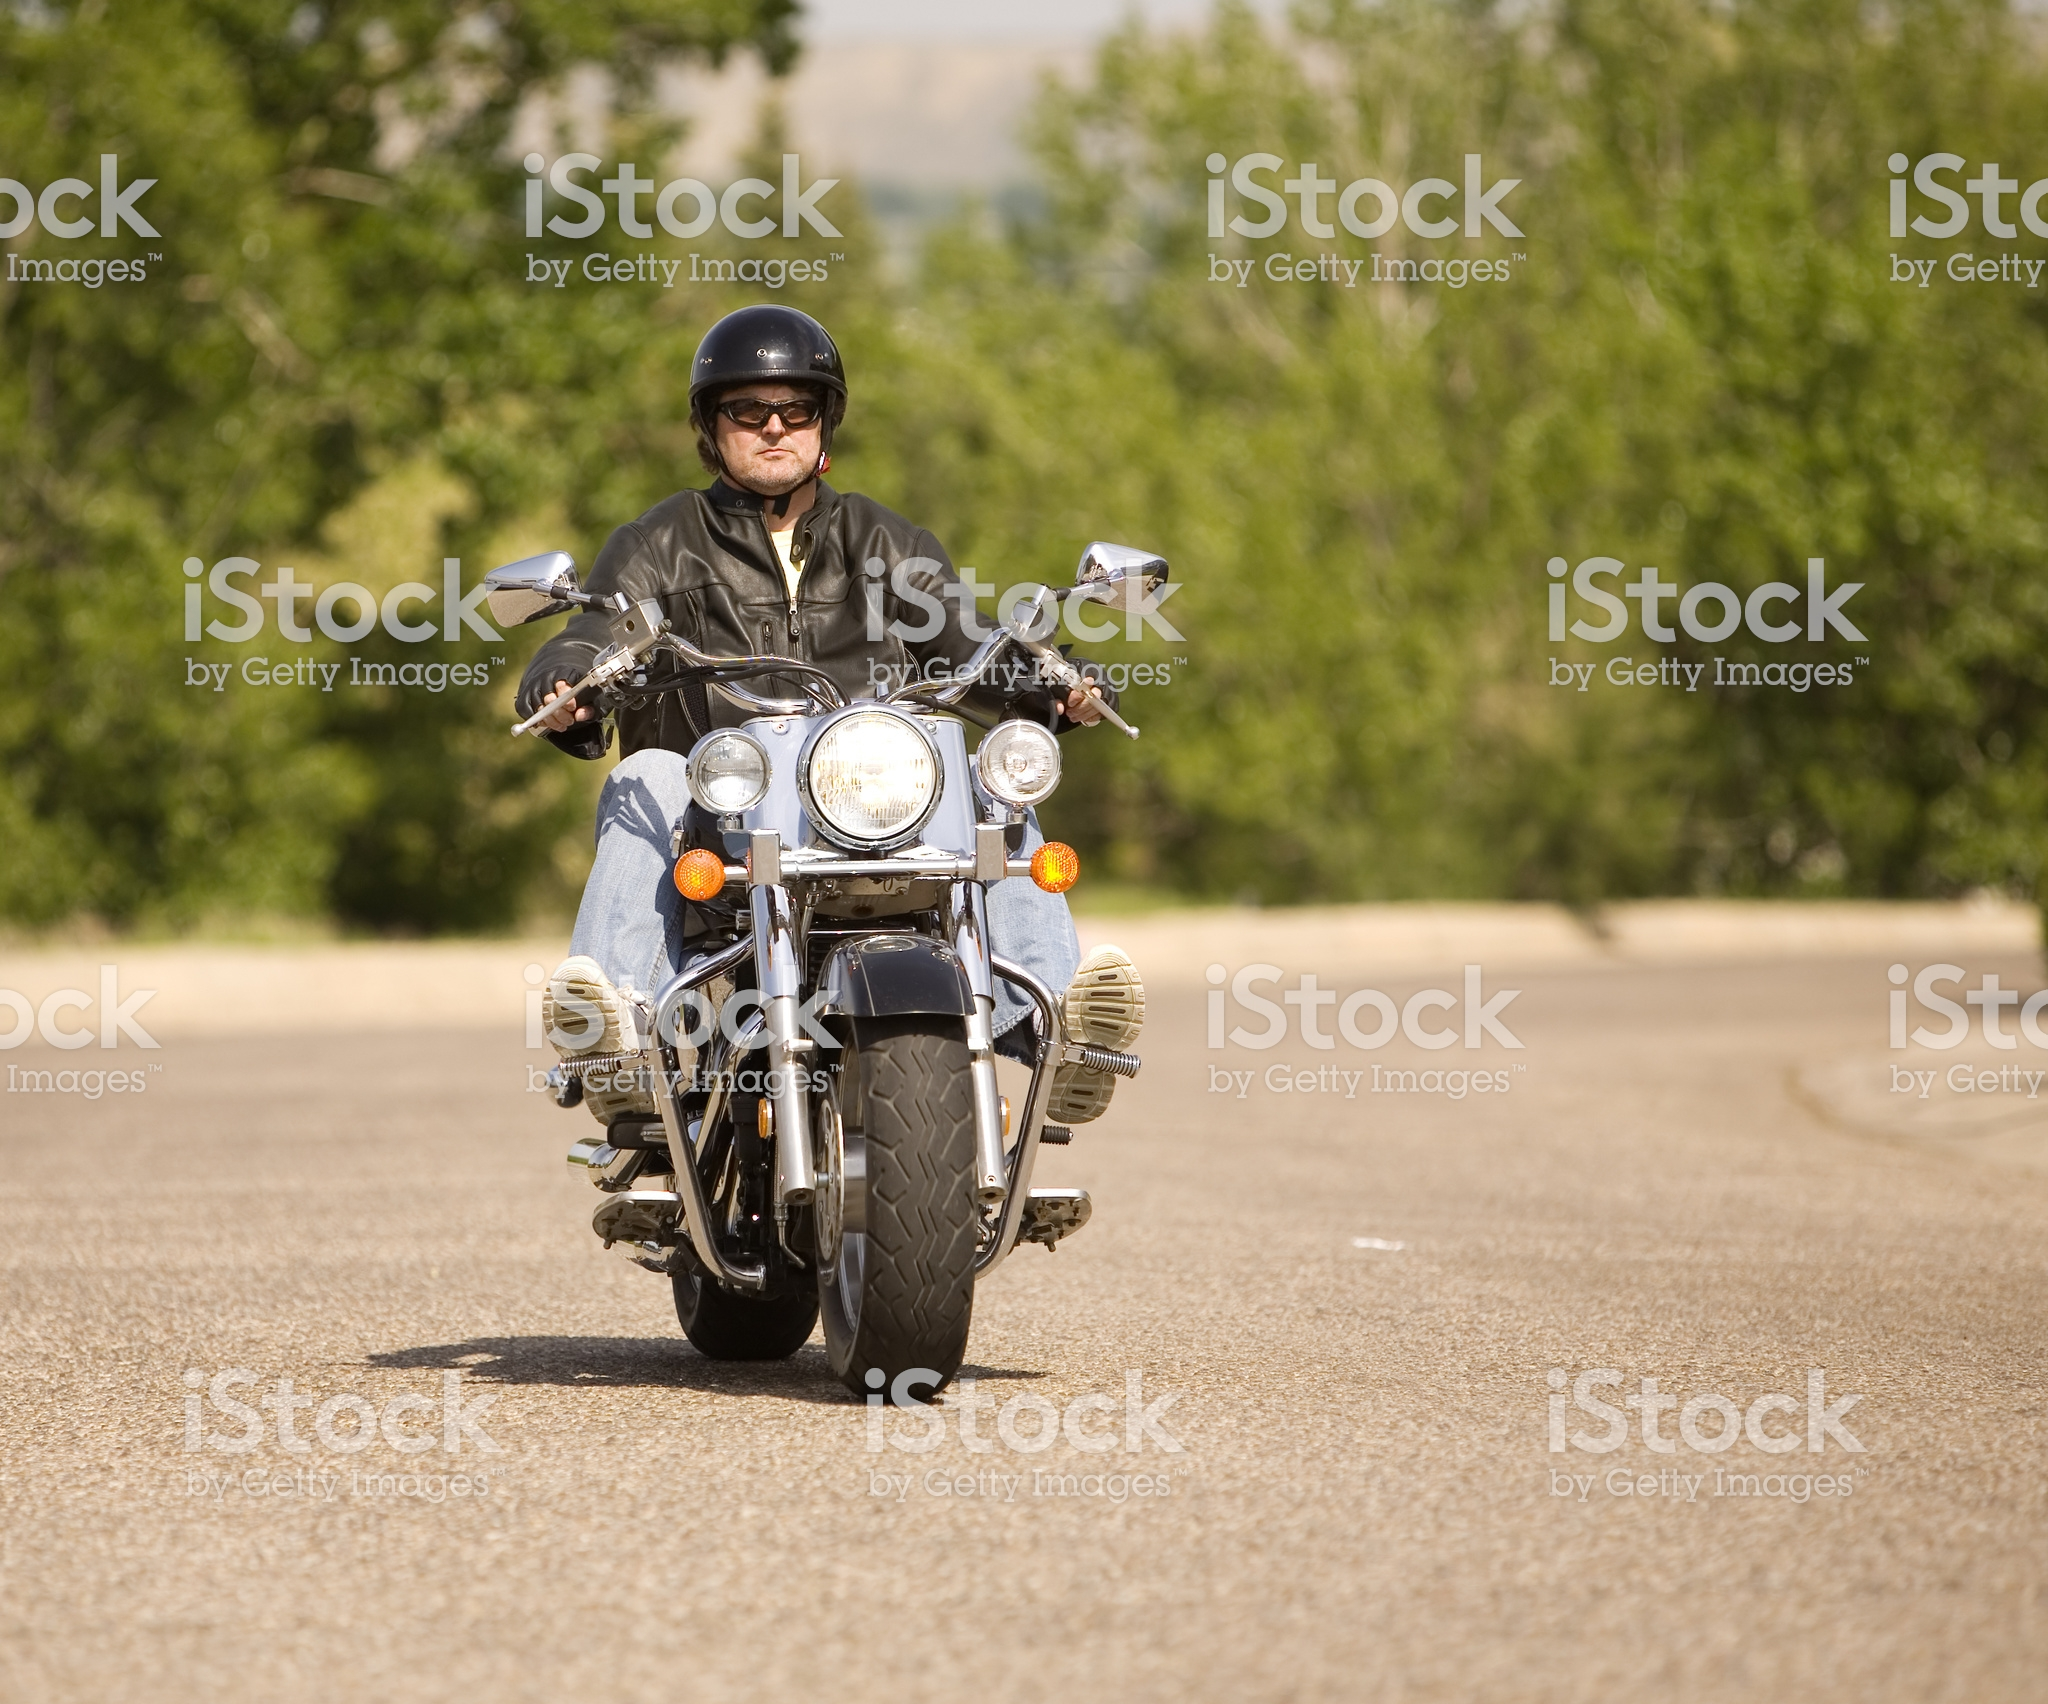helmet: (674, 298, 856, 418)
